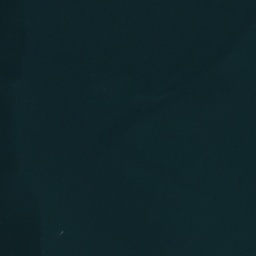Marine Debris: (28, 10, 32, 15)
